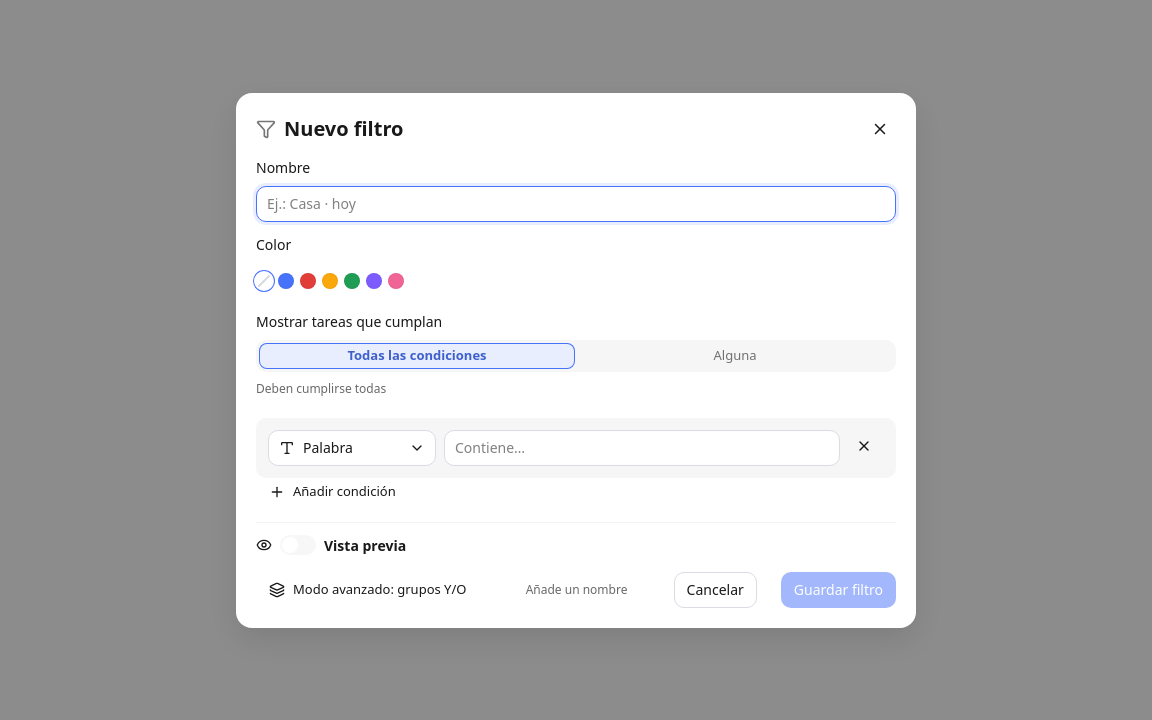
Test: FilterEditor › asks before leaving advanced mode drops groups
This screenshot has width=1152, height=720.
Click the button "Modo avanzado: grupos Y/O".
click(368, 590)  # box [256,576,480,604]
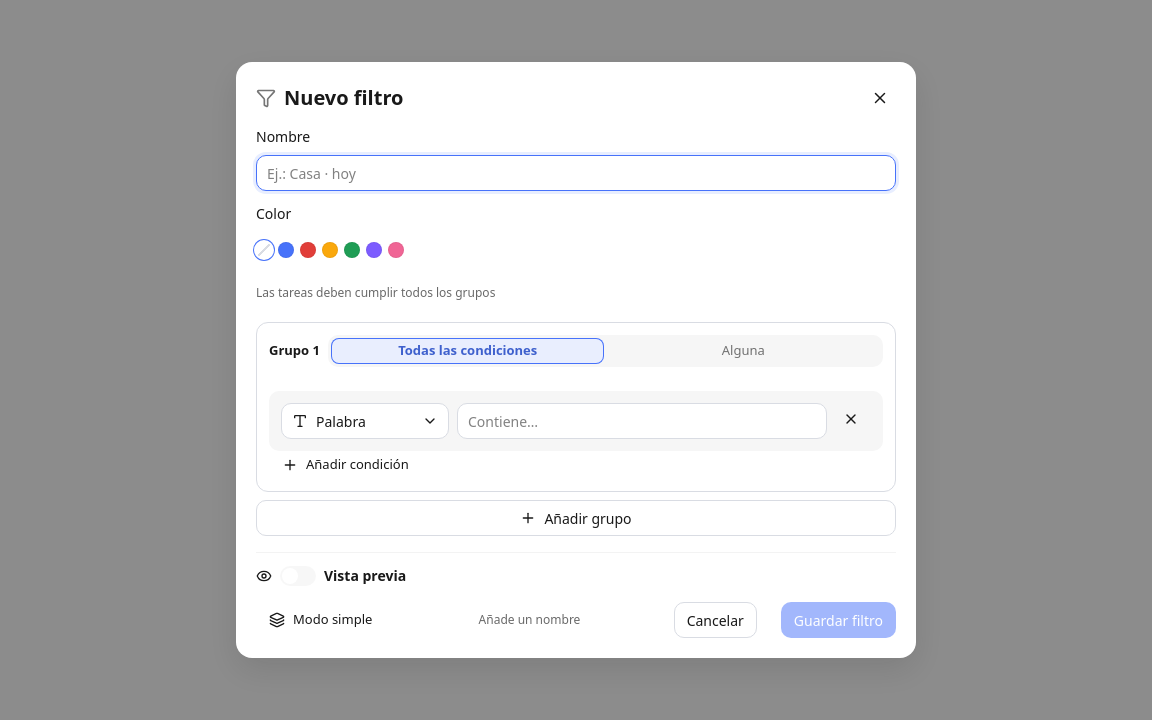
Click the button "Añadir grupo".
click(576, 518)  # box [256,500,896,536]
(page scrolled)
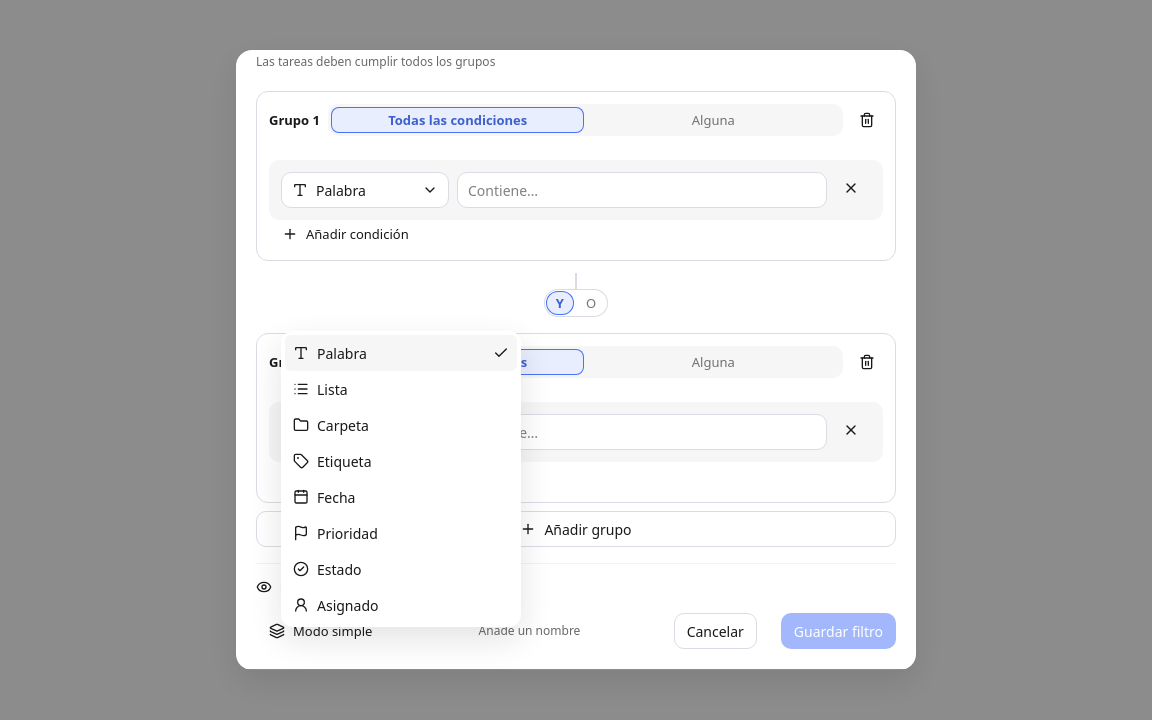
Click the button "Modo simple".
click(321, 631)  # box [256,617,385,645]
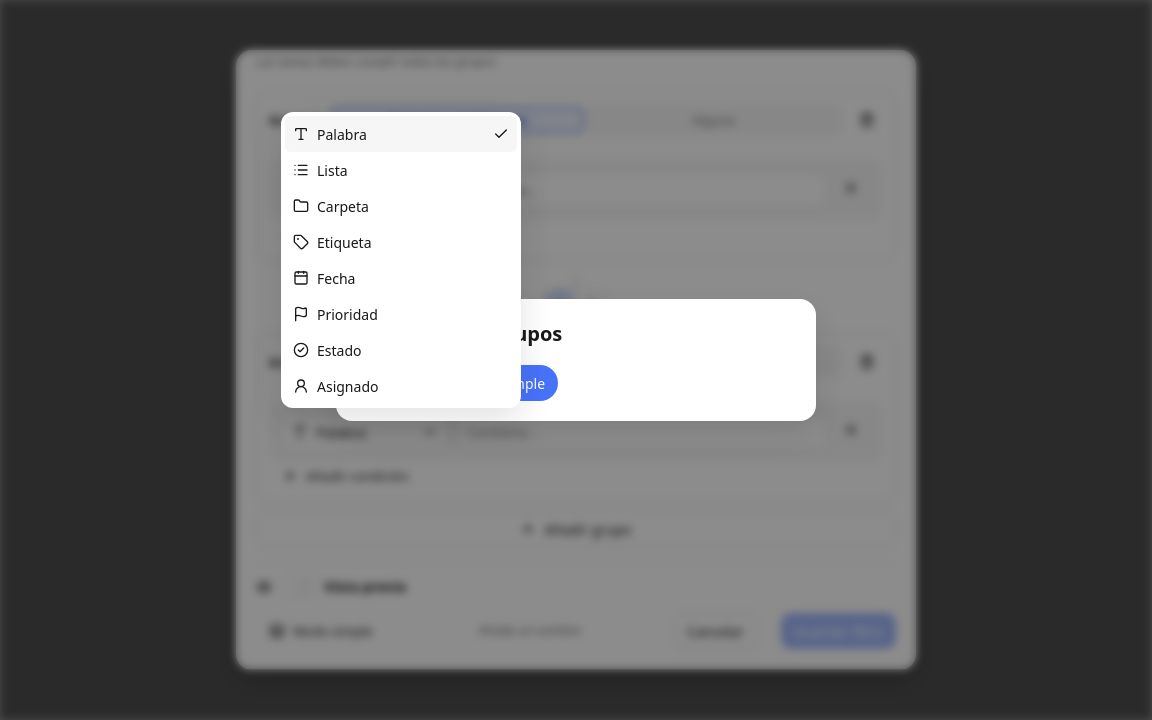
expect the dialog "Se quitarán 1 grupos" is shown: met, box [336,299,816,421]
